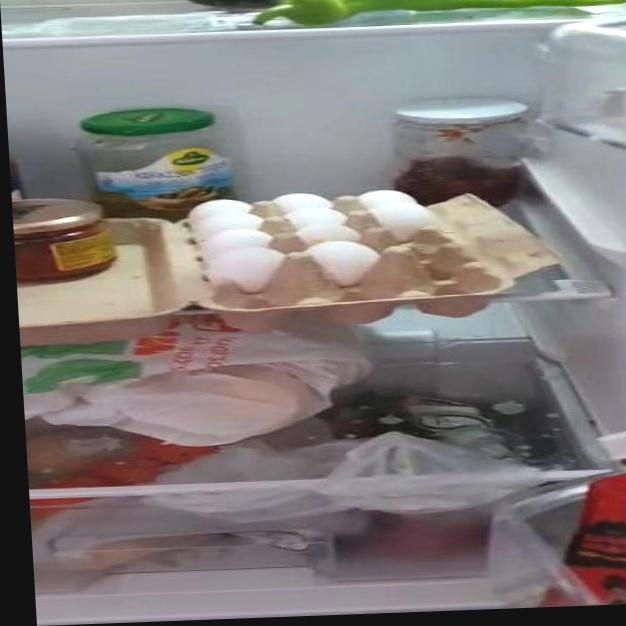eggs: (188, 193, 438, 284)
green chilies: (255, 0, 611, 28)
tomato: (85, 456, 166, 483), (137, 438, 206, 466)
